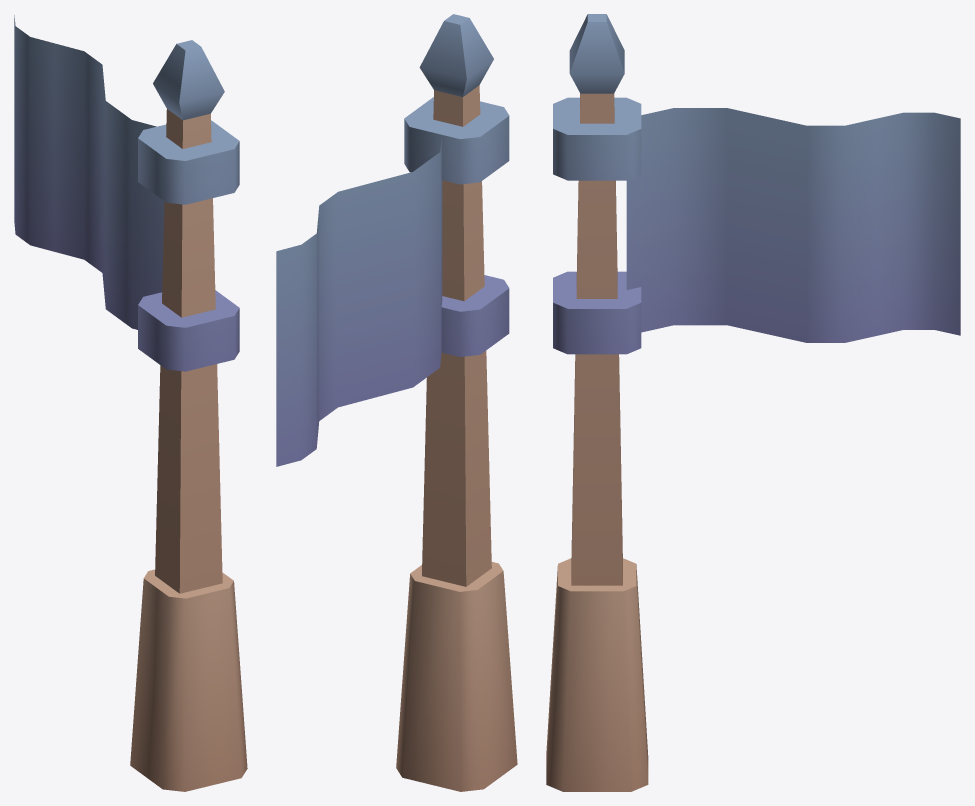
File: flag.glb
The picture shows the model from 3 angles, left to right: view 1: azimuth 30°, elevation 25°; view 2: azimuth 150°, elevation 25°; view 3: azimuth 270°, elevation 25°; orthographic projection. The views are drawn at different scales.
Visible parts, largest first — view 1: flag; view 2: flag; view 3: flag.
Boxes of the visible parts, box(x1,y1,x2,y2) form: flag: box(14, 15, 247, 791); flag: box(276, 14, 517, 791); flag: box(546, 14, 960, 791).
Bounding box in the file's own units: 0.1064 × 0.8656 × 0.4323.
